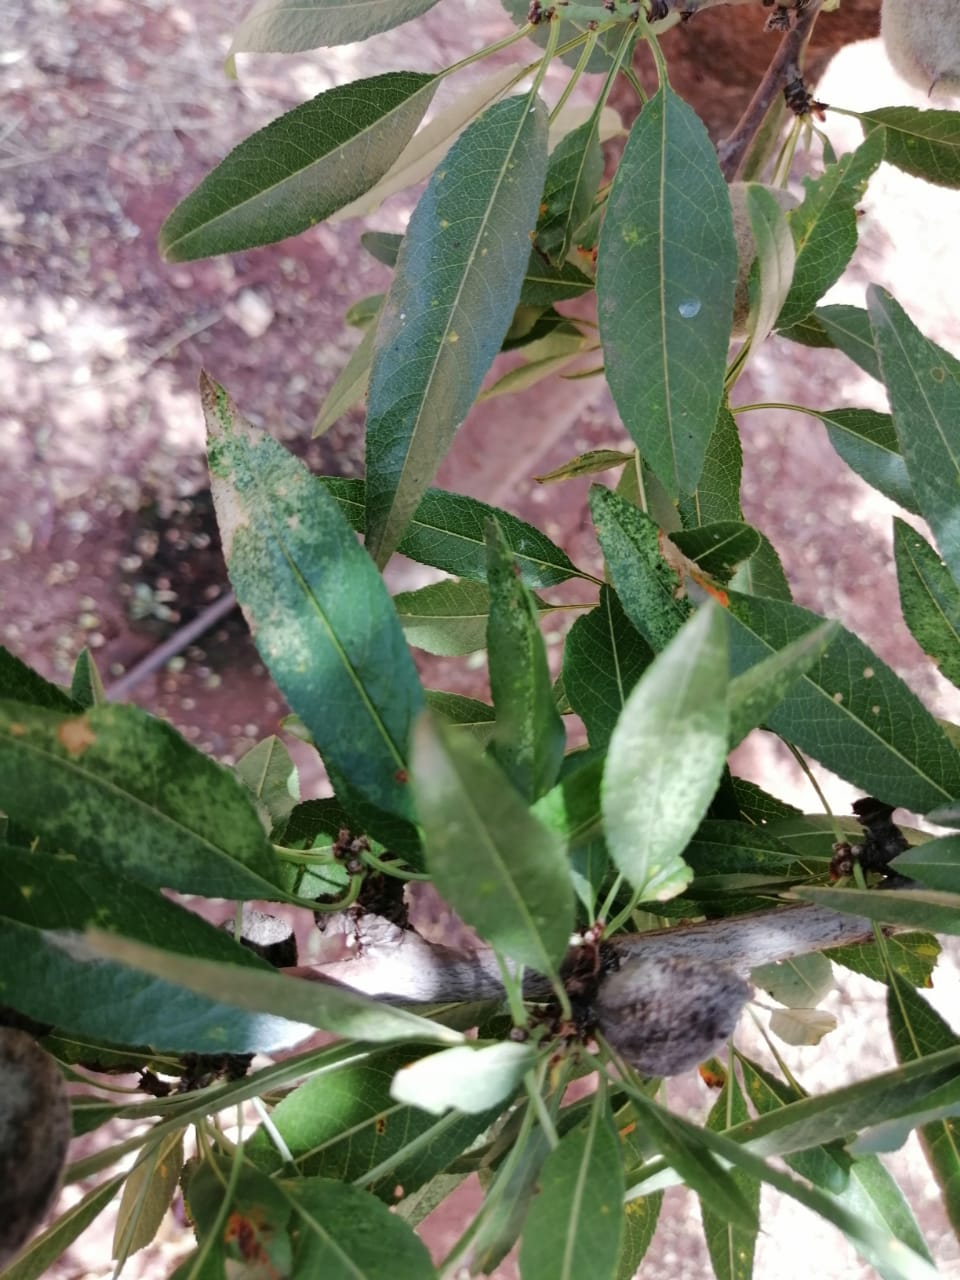faux tigre: (195, 367, 421, 831), (367, 91, 549, 569)
